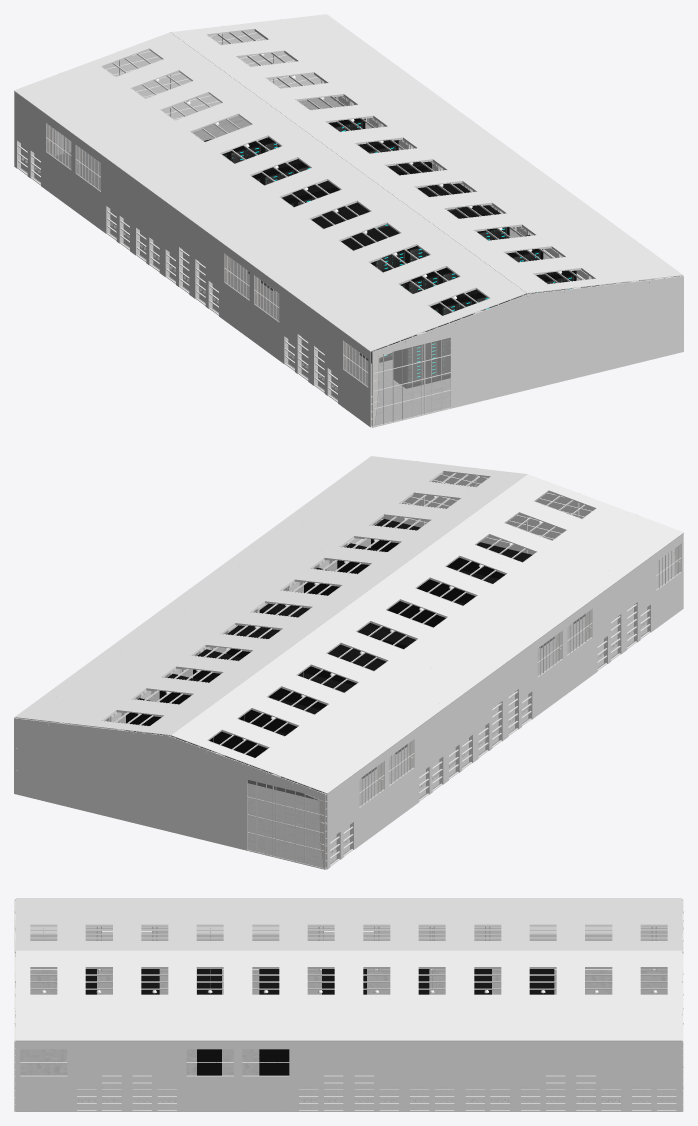
Rendered from modelo_3d_4.glb.
3 renders of one model, top to bottom at view 1: azimuth 30°, elevation 25°; view 2: azimuth 150°, elevation 25°; view 3: azimuth 270°, elevation 25°, orthographic. The views are drawn at different scales.
Size of the model in its own units: 48.66 by 14.31 by 96.6.
Materials: 12 (2 with a texture image).
